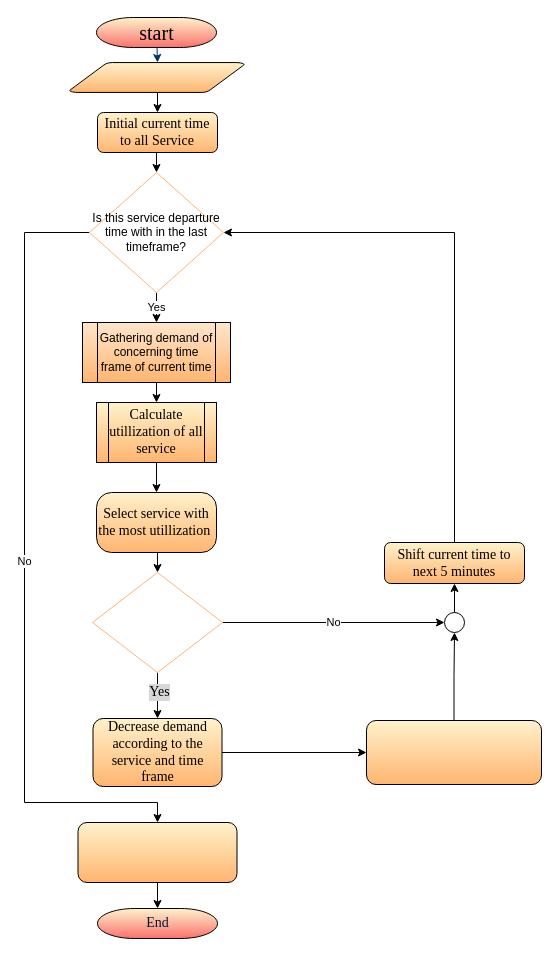
Some shapes in this 559 by 956 pixel diagram are drawn without their labels. Here are the shapes that lost their labels. From the top down, the centre of each, then its label:
At point (156, 77): "Input Demand & Service".
At point (157, 622): "The most uitillzation meet target ?".
At point (454, 752): "Add waiting time (Remaining demand of last time frame * time frame size )".
At point (157, 852): "Write Output to file Sent to Timetabling System".
